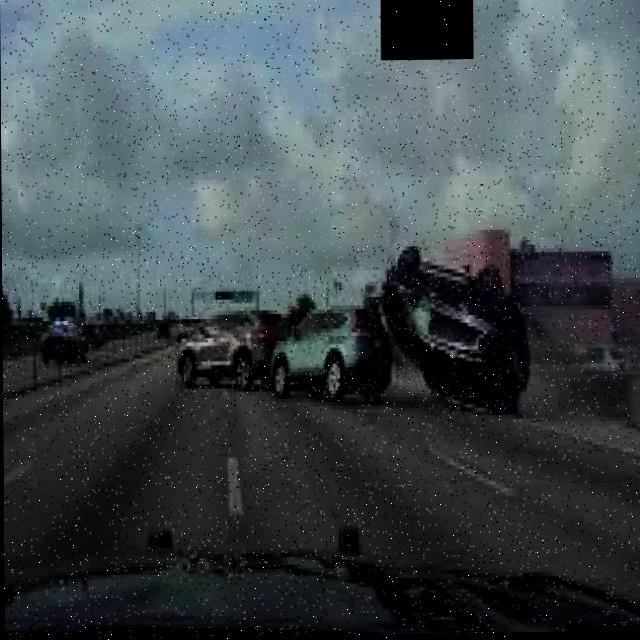multiple_accident: (125, 235, 547, 437)
normal: (33, 277, 92, 395)
